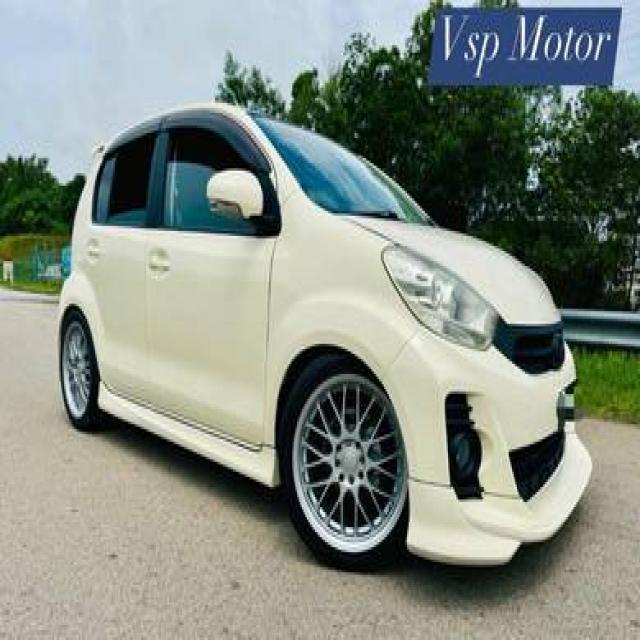PeroduaMyvi: (54, 98, 593, 572)
